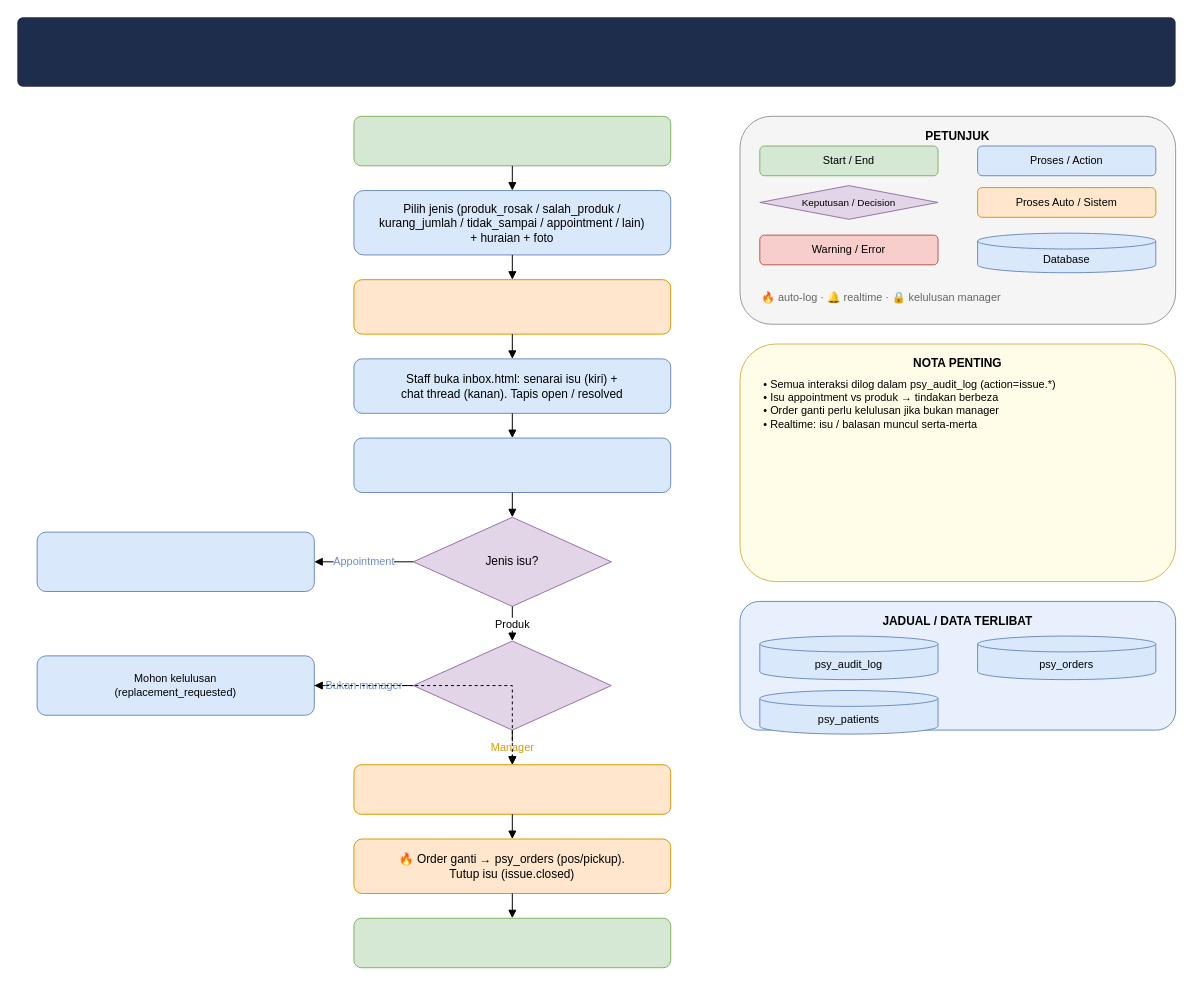
Image size: 1193x985. Some labels were removed from this diagram. Each missing label, with the centre of its shape:
"FLOW: ADUAN (ISSUE) Pesakit lapor isu → staff selesai + order ganti" belongs at [596,51].
"Isu selesai dan direkod" belongs at [512,942].
"Peranan staff?" belongs at [511,685].
"Staff balas (issue.responded); pesakit susul (issue.followup)" belongs at [512,465].
"START Pesakit buka issue.html → lapor isu" belongs at [512,140].
"Tunjuk link temu janji (pesakit boleh urus appointment)" belongs at [175,561].
"🔥 Cipta order ganti terus" belongs at [512,789].
"🔥 Log issue.reported (psy_audit_log, status=open). Realtime ke staff" belongs at [512,306].
